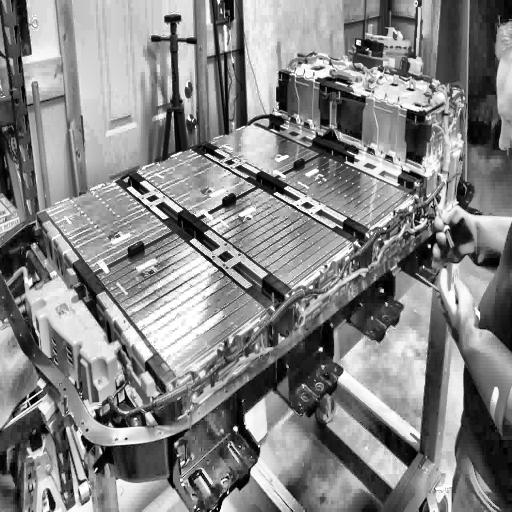battery_module: (95, 231, 267, 376), (201, 187, 353, 289), (45, 181, 172, 273), (277, 155, 409, 226), (137, 147, 256, 216), (207, 123, 319, 177)
high_volt_cable: (191, 82, 453, 405)
low_volt_cable: (89, 77, 469, 423)
